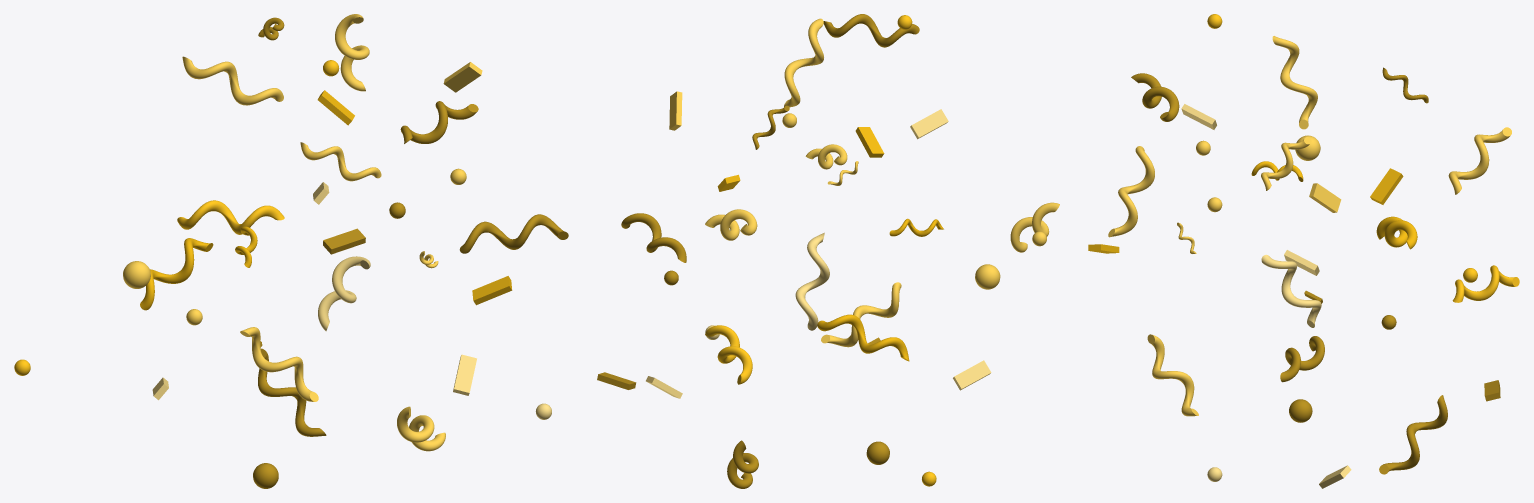
The model's file is Confetti.glb.
3 views of the same model, side by side, from view 1: azimuth 30°, elevation 25°; view 2: azimuth 150°, elevation 25°; view 3: azimuth 270°, elevation 25° (orthographic). The views are drawn at different scales.
Visible parts, largest first — view 1: pCylinder18, pCylinder12, pCylinder19, pCylinder11, pCylinder14, pCylinder17, pCylinder13, pCylinder20, pCylinder16, pCylinder15, pCylinder22, pCube22 (+4 smaller); view 2: pCylinder20, pCylinder13, pCylinder14, pCylinder11, pCylinder16, pCylinder17, pCylinder12, pCylinder18, pCylinder15, pCylinder19, pCylinder22, pCube25 (+3 smaller); view 3: pCylinder19, pCylinder15, pCylinder14, pCylinder17, pCylinder13, pCylinder12, pCylinder16, pCylinder20, pCylinder18, pCylinder11, pCylinder22, pCube23 (+1 smaller).
Part boxes in pixels (left/top/right/bottom): pCylinder18: left=459, top=214, right=568, bottom=253; pCylinder12: left=182, top=56, right=283, bottom=105; pCylinder19: left=240, top=327, right=318, bottom=401; pCylinder11: left=177, top=200, right=284, bottom=234; pCylinder14: left=335, top=14, right=369, bottom=91; pCylinder17: left=397, top=406, right=445, bottom=451; pCylinder13: left=318, top=256, right=370, bottom=331; pCylinder20: left=140, top=238, right=213, bottom=310; pCylinder16: left=400, top=101, right=478, bottom=143; pCylinder15: left=258, top=348, right=326, bottom=436; pCylinder22: left=300, top=142, right=381, bottom=181; pCube22: left=453, top=354, right=476, bottom=395; pCylinder20: left=817, top=314, right=909, bottom=361; pCylinder13: left=795, top=232, right=829, bottom=330; pCylinder14: left=784, top=18, right=823, bottom=107; pCylinder11: left=705, top=325, right=752, bottom=384; pCylinder16: left=823, top=14, right=919, bottom=47; pCylinder17: left=821, top=282, right=901, bottom=347; pCylinder12: left=705, top=209, right=757, bottom=240; pCylinder18: left=621, top=213, right=686, bottom=262; pCylinder15: left=727, top=440, right=758, bottom=488; pCylinder19: left=1010, top=202, right=1059, bottom=252; pCylinder22: left=805, top=144, right=847, bottom=169; pCube25: left=910, top=109, right=948, bottom=139; pCylinder19: left=1108, top=146, right=1154, bottom=237; pCylinder15: left=1379, top=395, right=1447, bottom=474; pCylinder14: left=1272, top=36, right=1317, bottom=129; pCylinder17: left=1147, top=334, right=1198, bottom=416; pCylinder13: left=1261, top=254, right=1321, bottom=327; pCylinder12: left=1448, top=127, right=1511, bottom=194; pCylinder16: left=1131, top=73, right=1179, bottom=121; pCylinder20: left=1376, top=216, right=1417, bottom=249; pCylinder18: left=1280, top=336, right=1324, bottom=382; pCylinder11: left=1452, top=265, right=1519, bottom=302; pCylinder22: left=1261, top=137, right=1311, bottom=190; pCube23: left=1370, top=168, right=1403, bottom=204.
Bounding box in the file's own units: 9.42 × 9.45 × 8.64.
